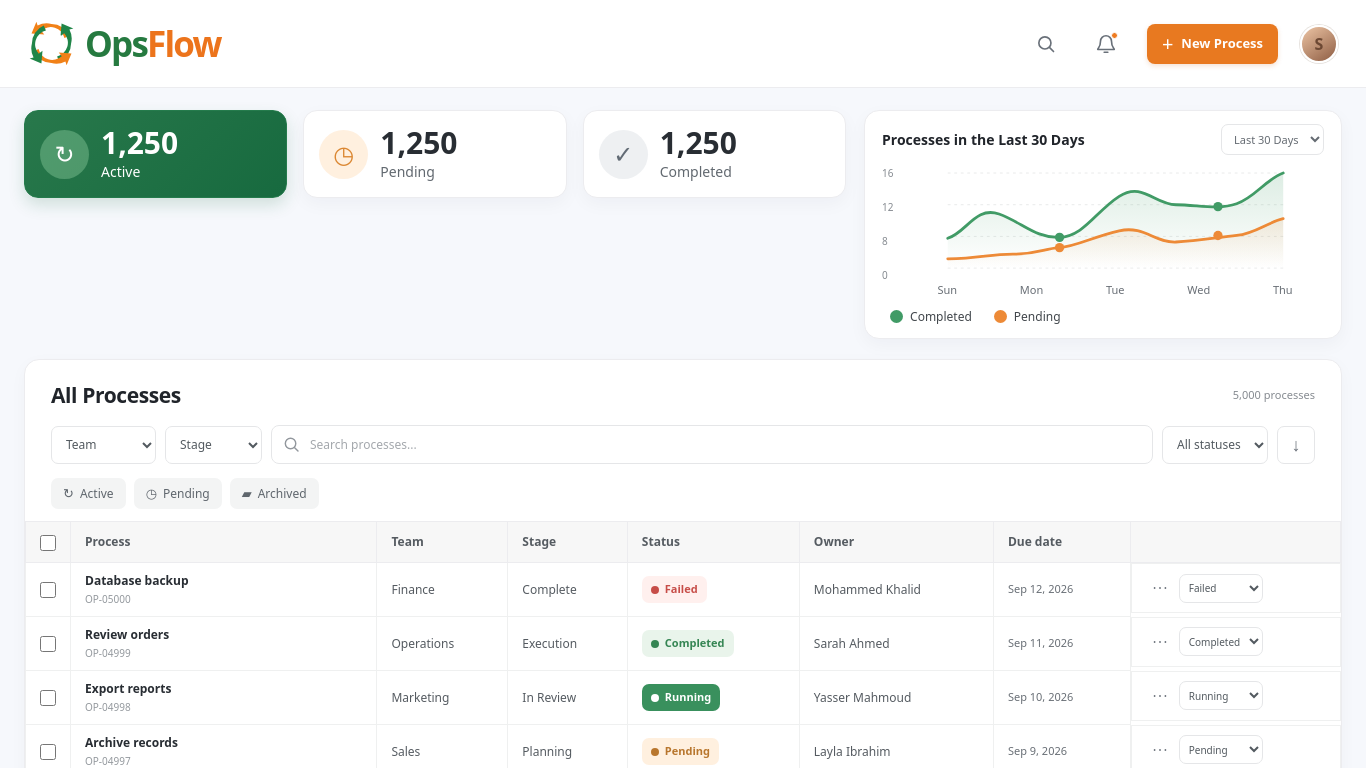
OperationsDashboard › keeps the latest search result when an earlier response arrives later
Expected: the text "OP-05000" is shown, [85, 592, 131, 606]
Type "old" into the search field named "Search by name or operation ID" at coordinates (726, 444), box [310, 436, 1142, 454]
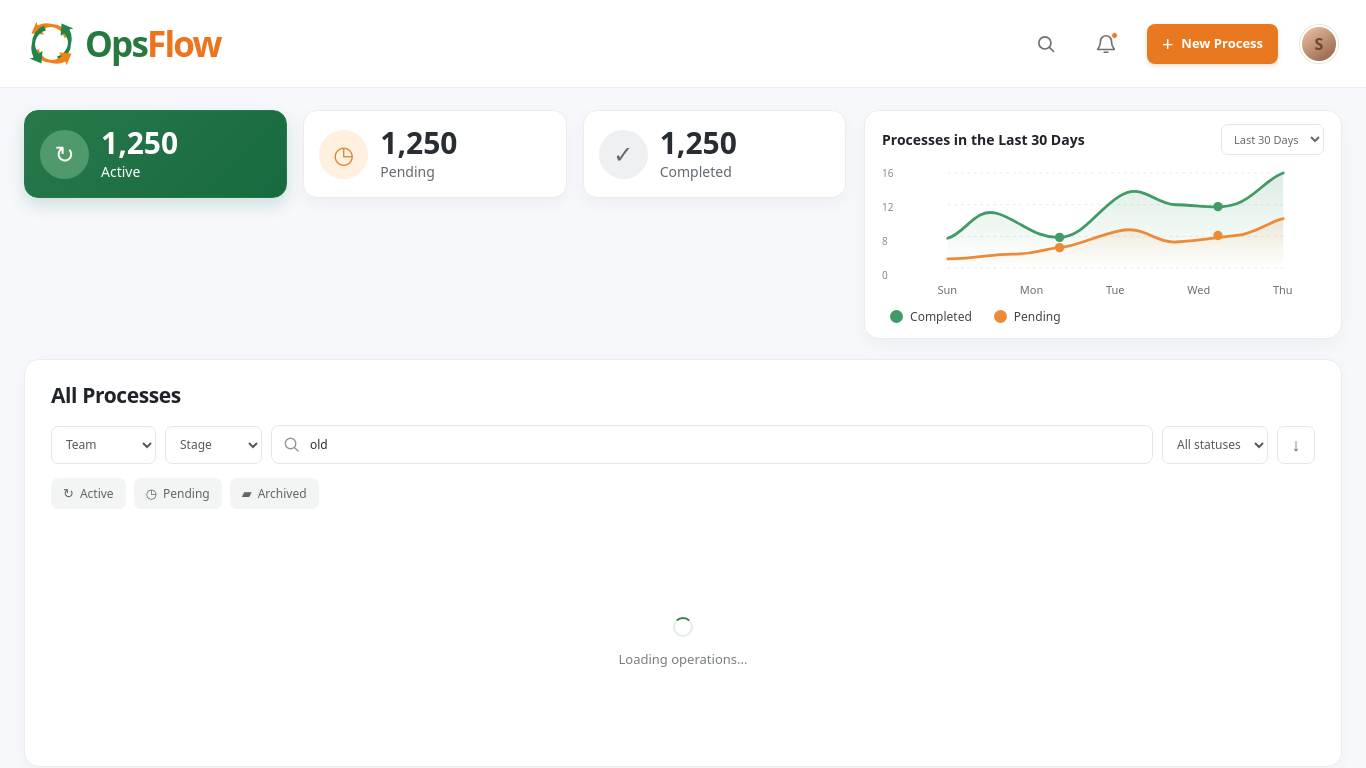
Replace the text in the search field named "Search by name or operation ID" with "new" at coordinates (726, 444), box [310, 436, 1142, 454]
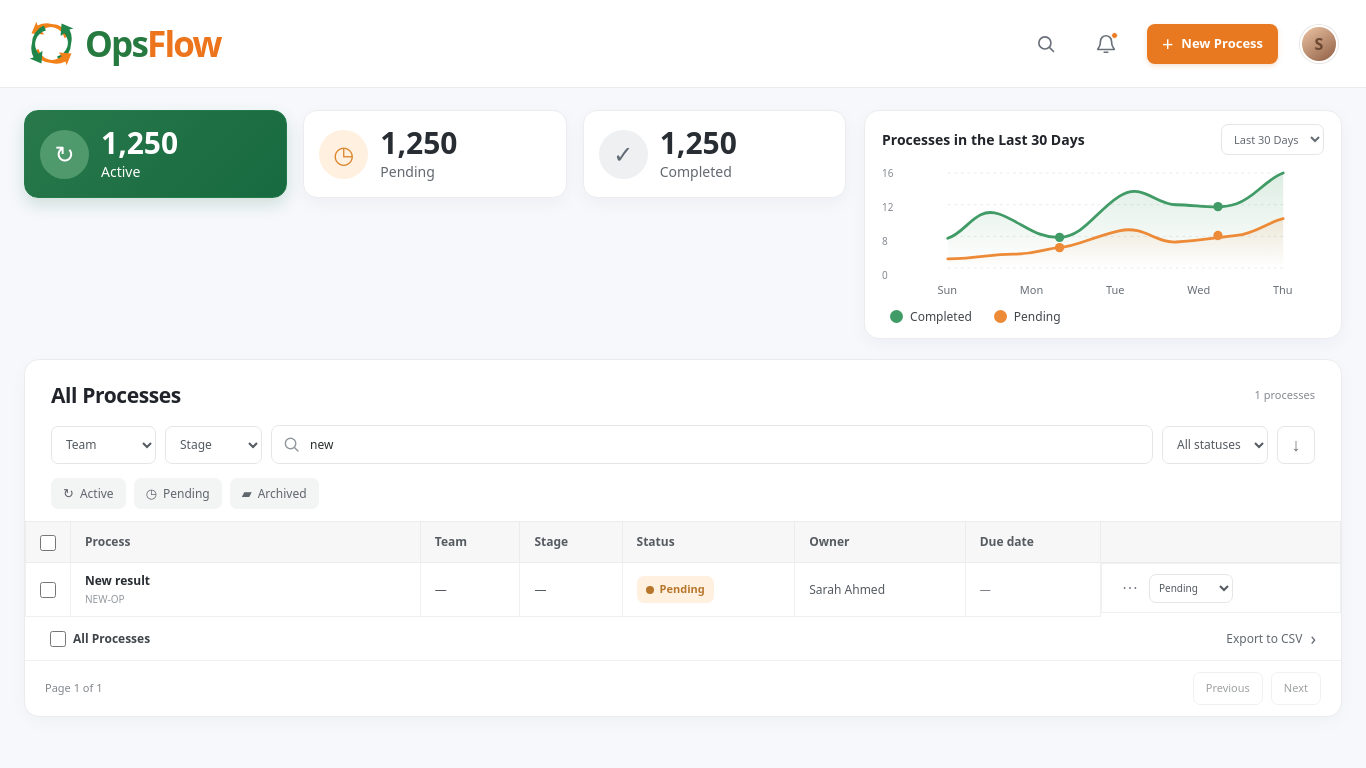
Result: the text "NEW-OP" is shown at [85, 592, 124, 606]
